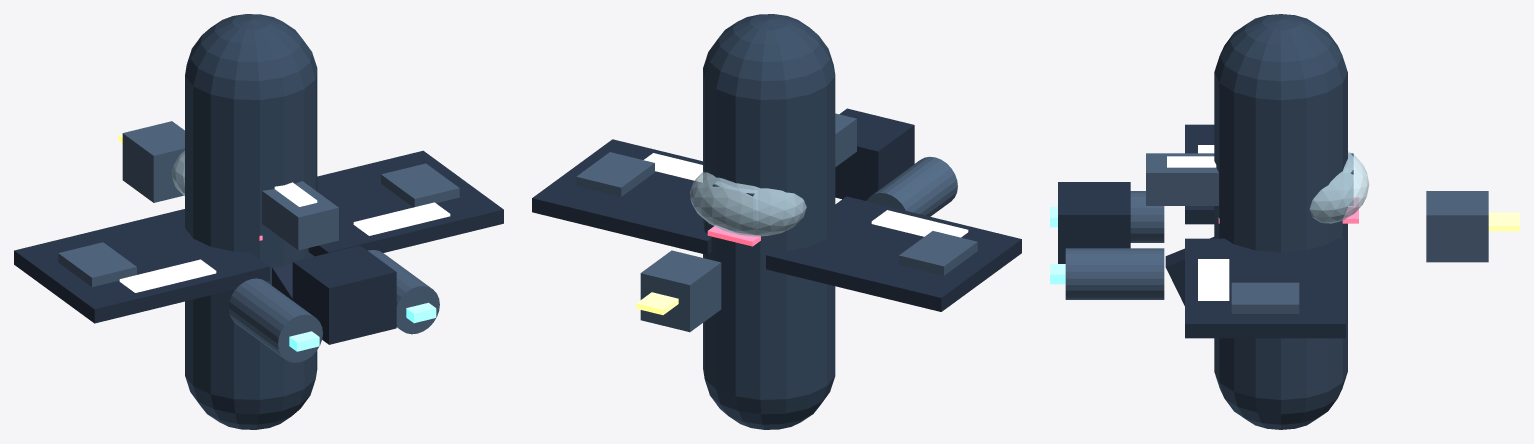
File: dive_duck_spaceship.glb
3 renders of one model, left to right at view 1: azimuth 30°, elevation 25°; view 2: azimuth 150°, elevation 25°; view 3: azimuth 270°, elevation 25°, orthographic.
Parts seen in each view (by area): view 1: FUSELAGE, WING_LEFT, WING_RIGHT, REAR_BLOCK, ENGINE_LEFT, NOSE_BLOCK, SPINE, WINGTIP_LEFT, WINGTIP_RIGHT, ENGINE_RIGHT, EMISSIVE_WING_LEFT, EMISSIVE_WING_RIGHT (+4 smaller); view 2: FUSELAGE, WING_LEFT, WING_RIGHT, COCKPIT, REAR_BLOCK, NOSE_BLOCK, ENGINE_LEFT, SPINE, WINGTIP_RIGHT, WINGTIP_LEFT, EMISSIVE_WING_LEFT, EMISSIVE_WING_RIGHT (+2 smaller); view 3: FUSELAGE, WING_RIGHT, ENGINE_RIGHT, REAR_BLOCK, NOSE_BLOCK, SPINE, COCKPIT, WINGTIP_RIGHT, ENGINE_LEFT, EMISSIVE_WING_RIGHT, WING_LEFT, VENTRAL_FIN (+2 smaller).
Part boxes in pixels (<box>): FUSELAGE: <box>185,14,317,429</box>; WING_LEFT: <box>14,209,269,323</box>; WING_RIGHT: <box>308,150,503,256</box>; REAR_BLOCK: <box>292,245,396,344</box>; ENGINE_LEFT: <box>228,278,322,362</box>; NOSE_BLOCK: <box>122,121,184,202</box>; SPINE: <box>262,181,338,250</box>; WINGTIP_LEFT: <box>58,242,136,286</box>; WINGTIP_RIGHT: <box>381,163,459,207</box>; ENGINE_RIGHT: <box>368,250,439,334</box>; EMISSIVE_WING_LEFT: <box>119,259,216,292</box>; EMISSIVE_WING_RIGHT: <box>353,202,450,235</box>; FUSELAGE: <box>703,14,835,429</box>; WING_LEFT: <box>766,196,1021,311</box>; WING_RIGHT: <box>532,139,711,254</box>; COCKPIT: <box>690,171,806,236</box>; REAR_BLOCK: <box>835,108,914,200</box>; NOSE_BLOCK: <box>640,250,721,332</box>; ENGINE_LEFT: <box>866,156,957,216</box>; SPINE: <box>712,113,856,227</box>; WINGTIP_RIGHT: <box>576,152,654,196</box>; WINGTIP_LEFT: <box>899,231,977,275</box>; EMISSIVE_WING_LEFT: <box>871,210,968,237</box>; EMISSIVE_WING_RIGHT: <box>643,153,702,182</box>; FUSELAGE: <box>1214,14,1347,429</box>; WING_RIGHT: <box>1185,238,1345,338</box>; ENGINE_RIGHT: <box>1065,248,1164,299</box>; REAR_BLOCK: <box>1058,182,1130,263</box>; NOSE_BLOCK: <box>1426,191,1488,262</box>; SPINE: <box>1146,153,1353,205</box>; COCKPIT: <box>1309,151,1369,223</box>; WINGTIP_RIGHT: <box>1231,282,1299,313</box>; ENGINE_LEFT: <box>1130,191,1164,242</box>; EMISSIVE_WING_RIGHT: <box>1198,259,1229,300</box>; WING_LEFT: <box>1185,124,1214,224</box>; VENTRAL_FIN: <box>1165,237,1214,305</box>.
Bounding box in the file's own units: 182 × 172 × 181.
